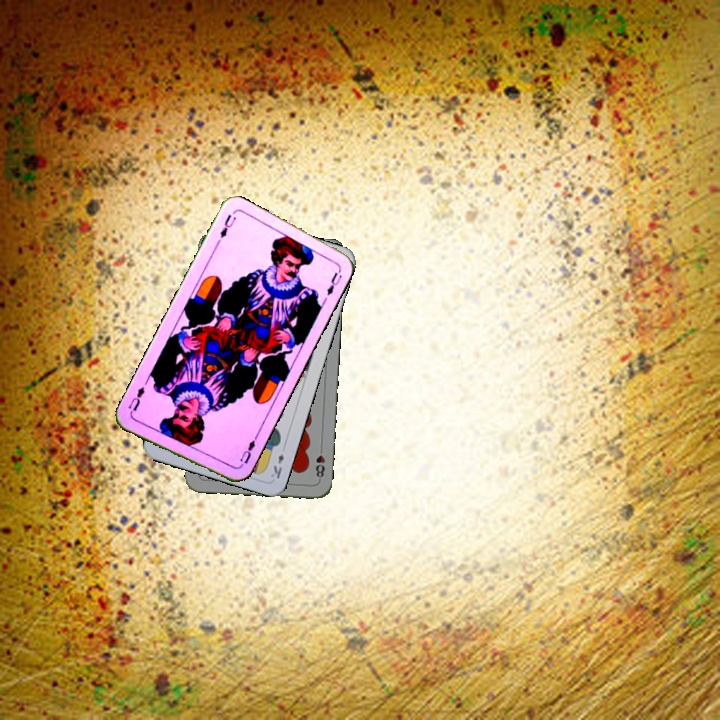EK: (267, 449, 286, 481)
EU: (234, 433, 260, 470), (216, 209, 239, 241)
H8: (312, 442, 327, 483)
